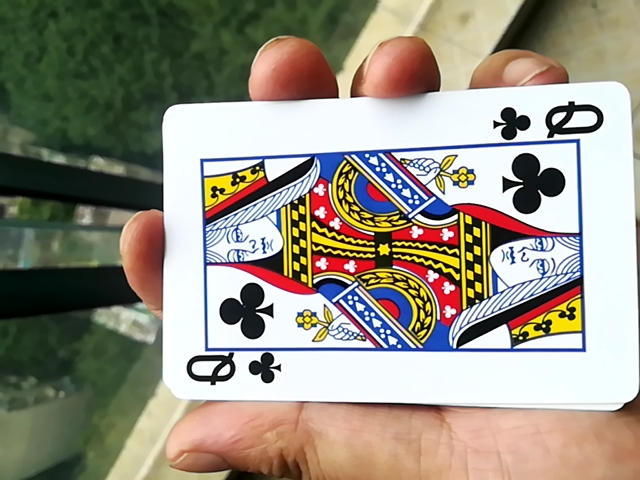mh q: (144, 96, 636, 422)
